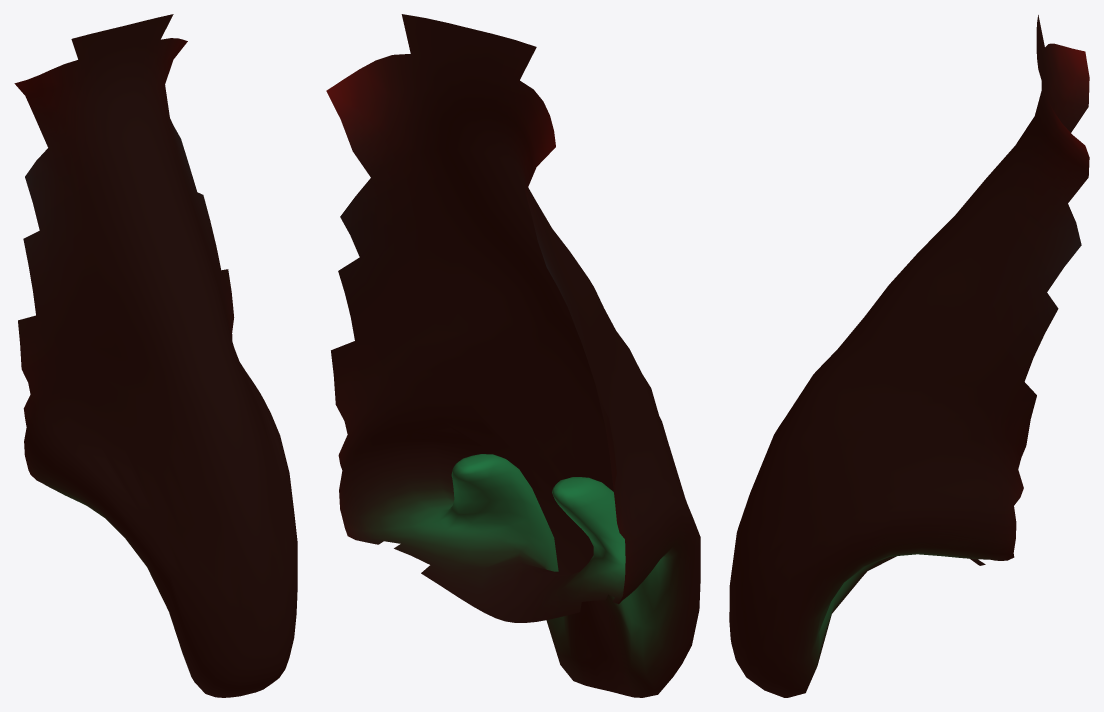
The model's file is nez07.dae.
The picture shows the model from 3 angles, left to right: view 1: azimuth 30°, elevation 25°; view 2: azimuth 150°, elevation 25°; view 3: azimuth 270°, elevation 25°; orthographic projection. The views are drawn at different scales.
Visible parts, largest first — view 1: Object001; view 2: Object001; view 3: Object001.
Part boxes in pixels (bbox=[...]): Object001: bbox=[14, 14, 297, 697]; Object001: bbox=[326, 14, 700, 697]; Object001: bbox=[729, 15, 1089, 697].
Bounding box in the file's own units: 3.19 × 4.07 × 8.09.
